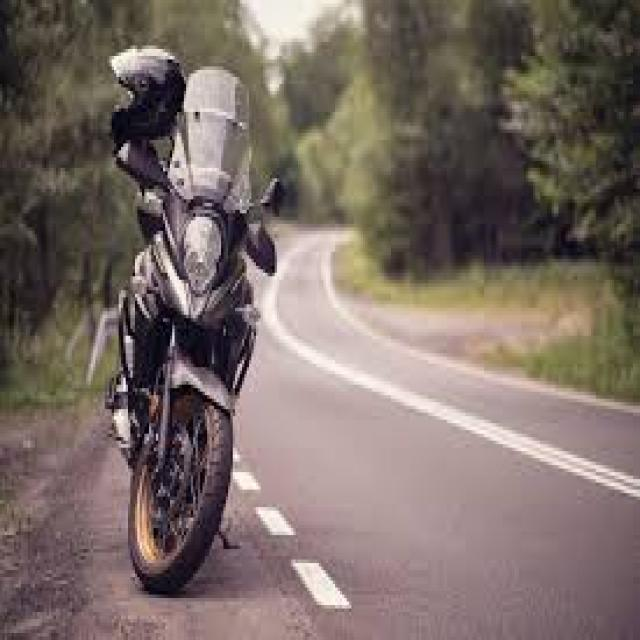MOTORCYCLE: (113, 49, 260, 586)
